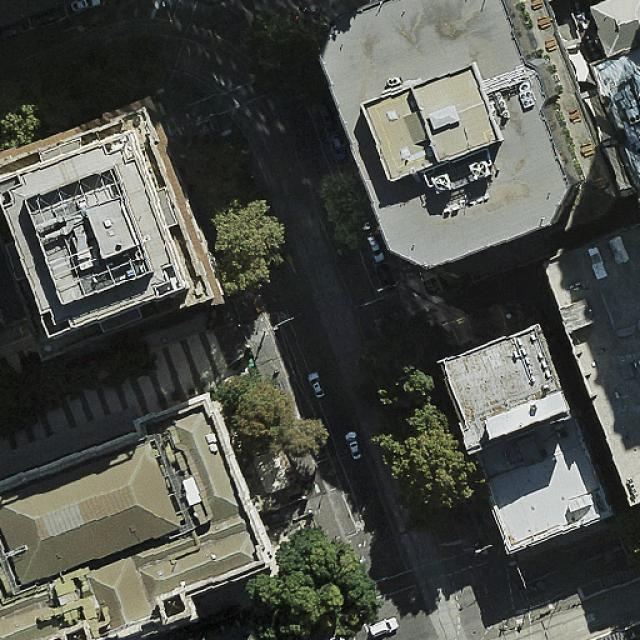Bike-Symbols: (276, 309, 290, 325), (352, 518, 366, 532)
